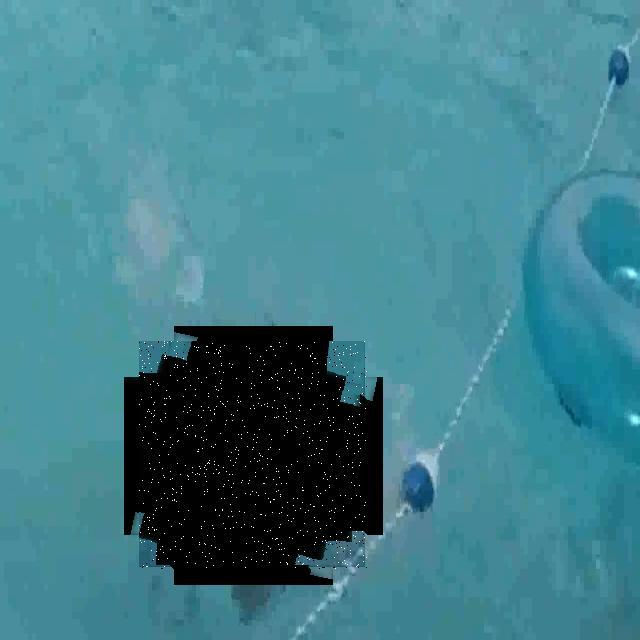Out of Water: (140, 342, 368, 570)
